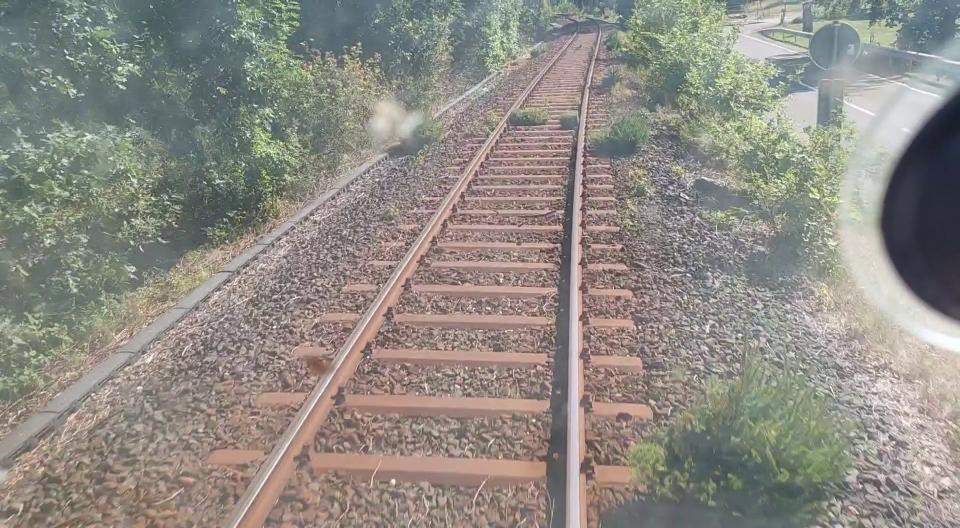Plant: (612, 0, 852, 236), (630, 356, 860, 524), (594, 114, 648, 157), (392, 118, 448, 155), (602, 66, 636, 101), (617, 199, 643, 233), (626, 164, 650, 197), (508, 109, 551, 126), (670, 165, 688, 181), (560, 116, 578, 130)
